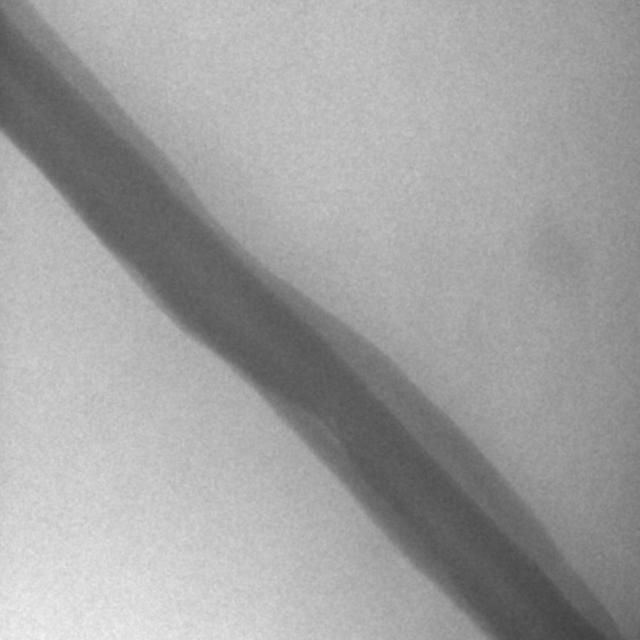unfused: (255, 257, 624, 640)
